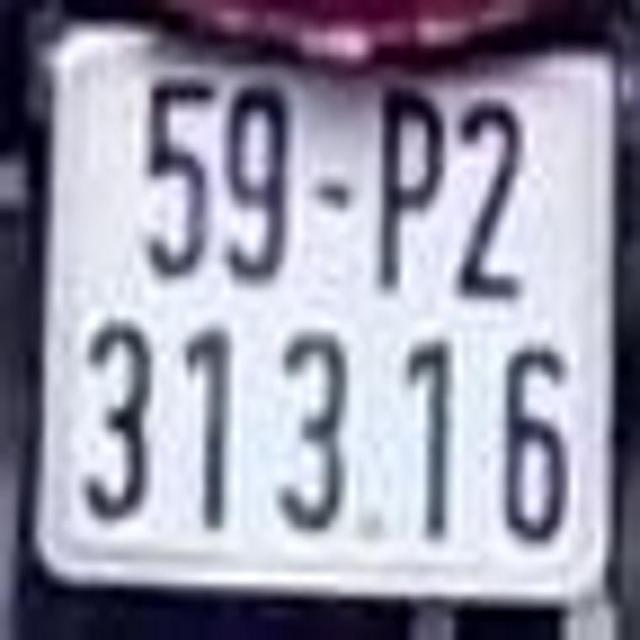1: (186, 324, 244, 534), (405, 341, 459, 534)
2: (460, 104, 520, 295)
3: (274, 324, 348, 540), (91, 322, 155, 528)
5: (144, 79, 212, 268)
6: (506, 343, 569, 540)
9: (228, 85, 291, 278)
P: (382, 94, 446, 292)
